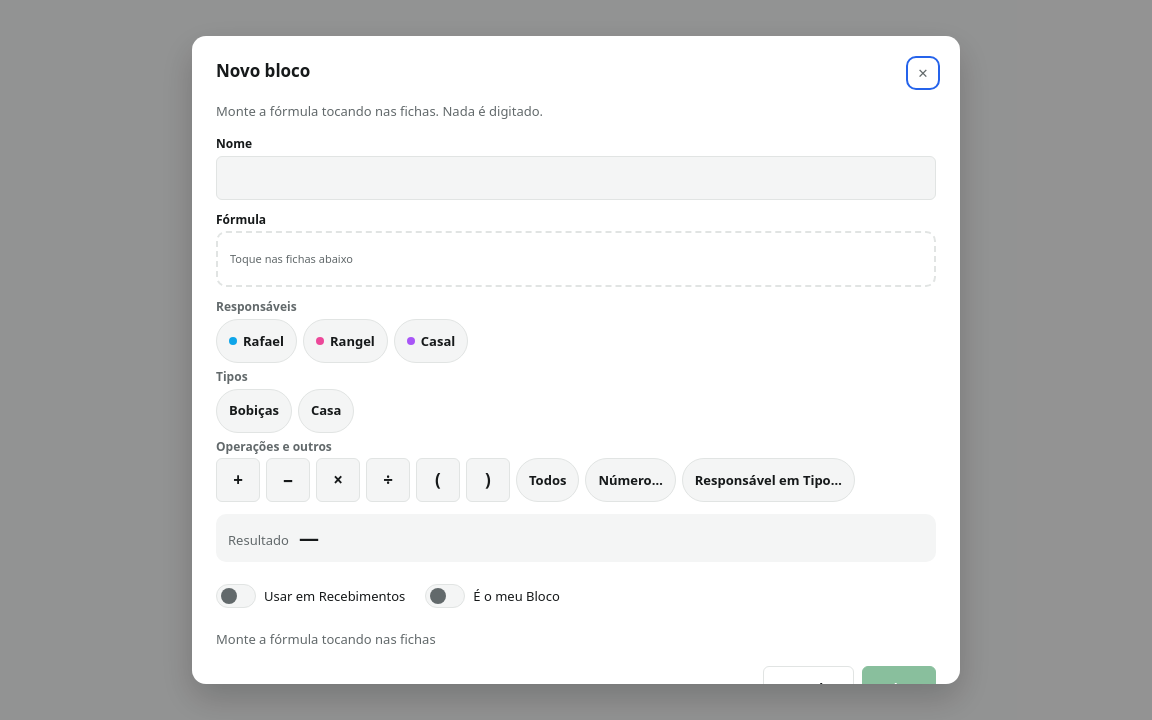
Montador de Bloco › Divisão por zero
Click the button "Casal" at [431, 341], box x1=394 y1=319 x2=468 y2=363
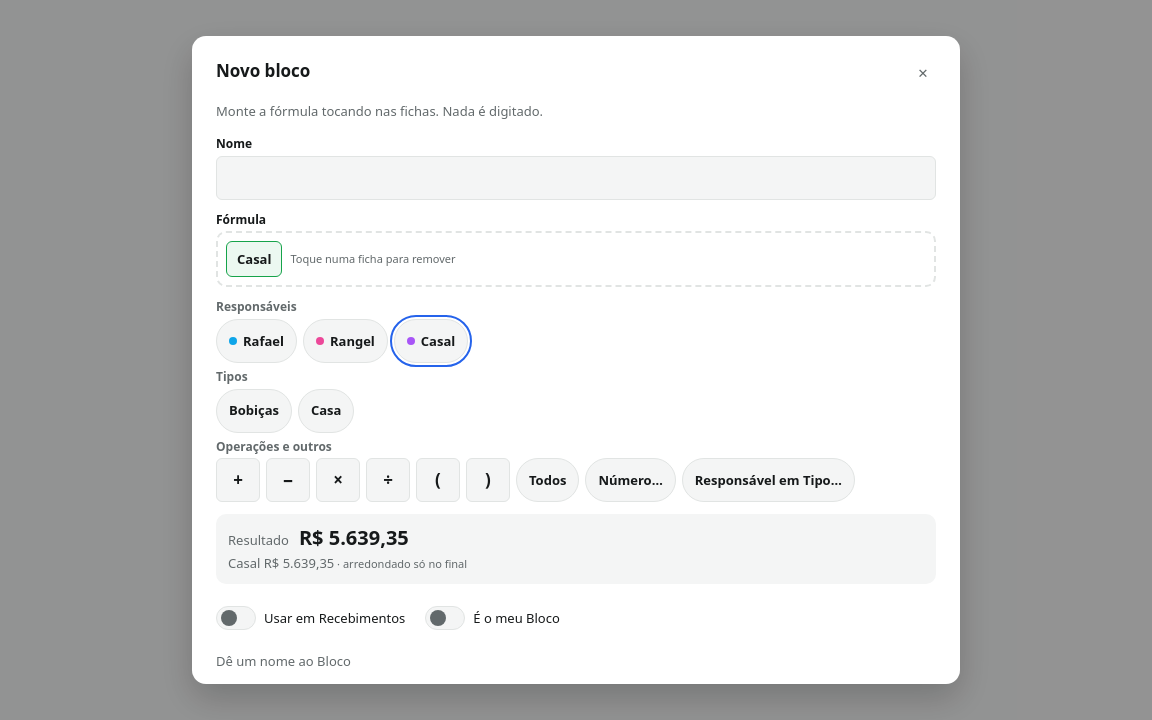
Click the button named "Dividir" at [388, 480], box x1=366 y1=458 x2=410 y2=502
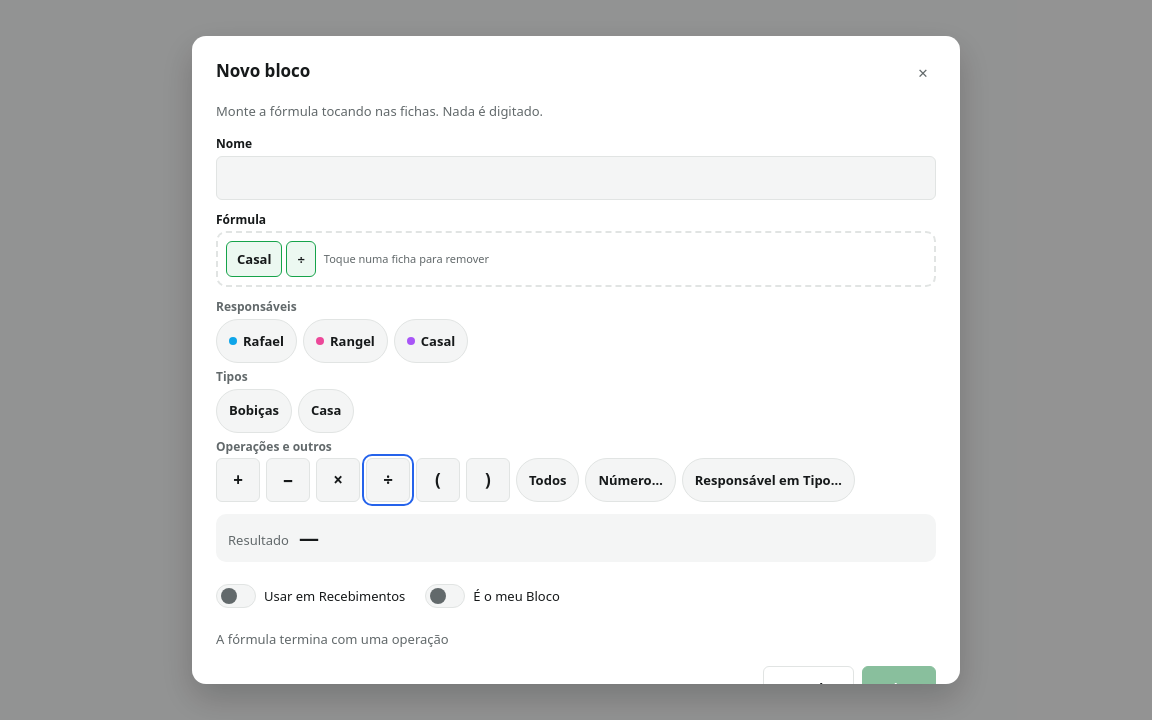
Click the button "Número…" at [631, 480], box x1=585 y1=458 x2=676 y2=502
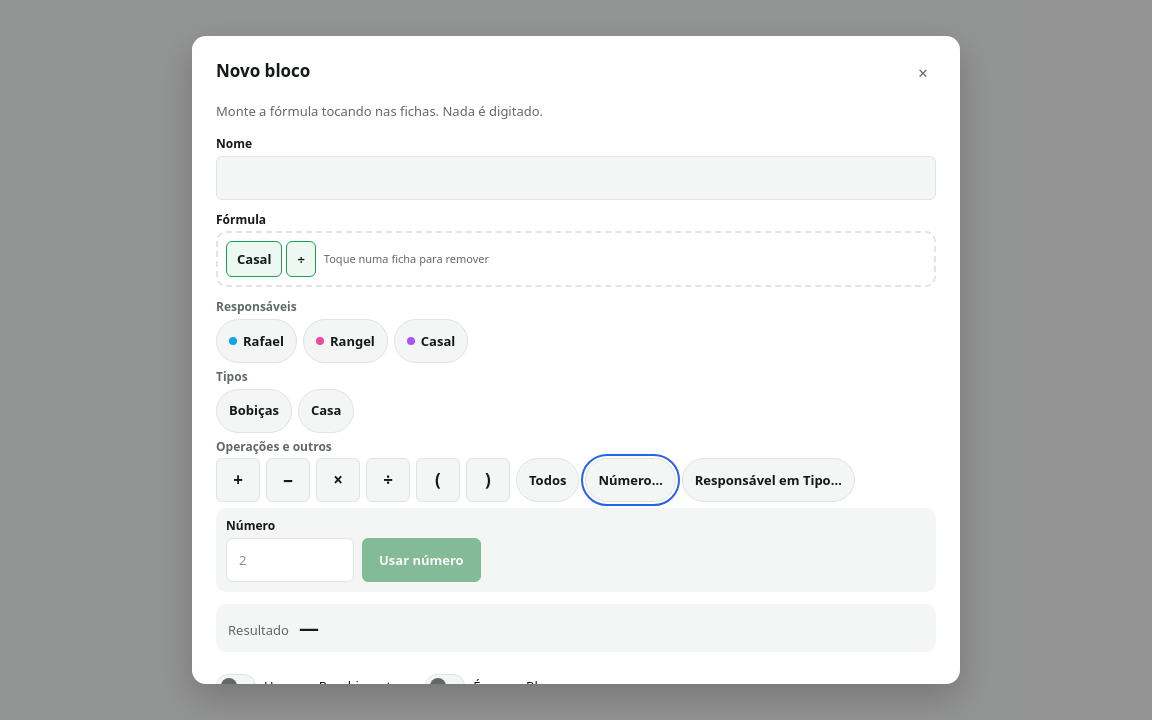
Type "0" into the field labelled "Número" at [290, 560], box x1=226 y1=538 x2=354 y2=582
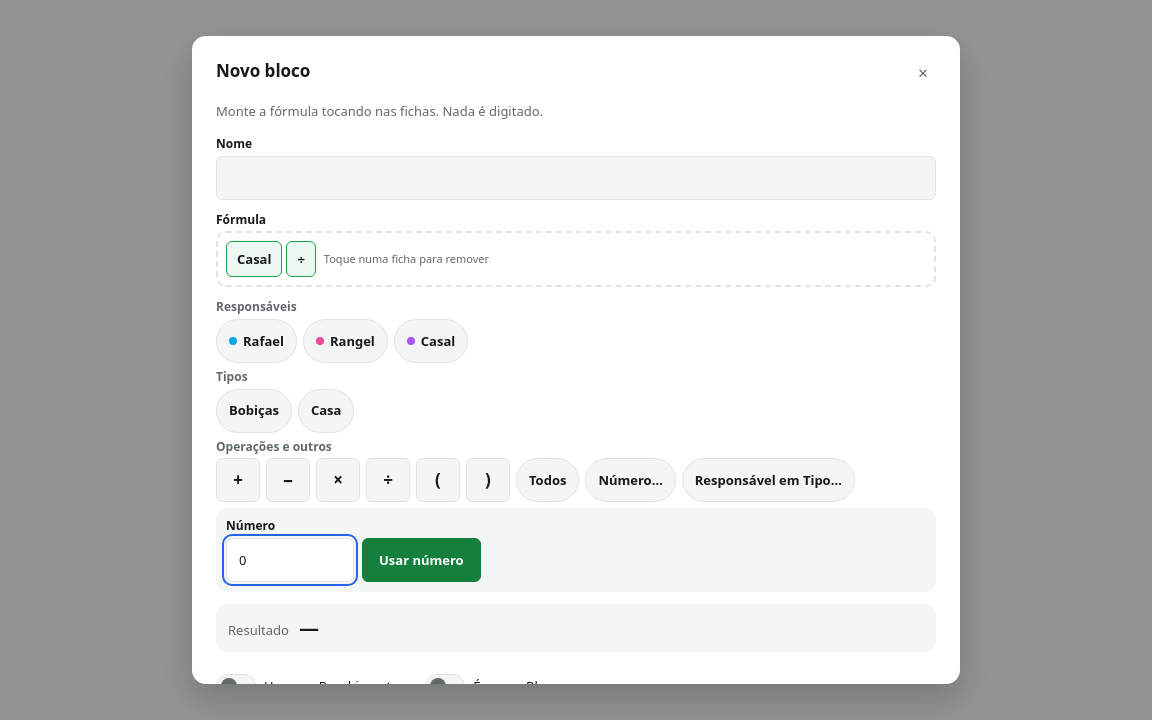
Click the button "Usar número" at [421, 560], box x1=362 y1=538 x2=481 y2=582
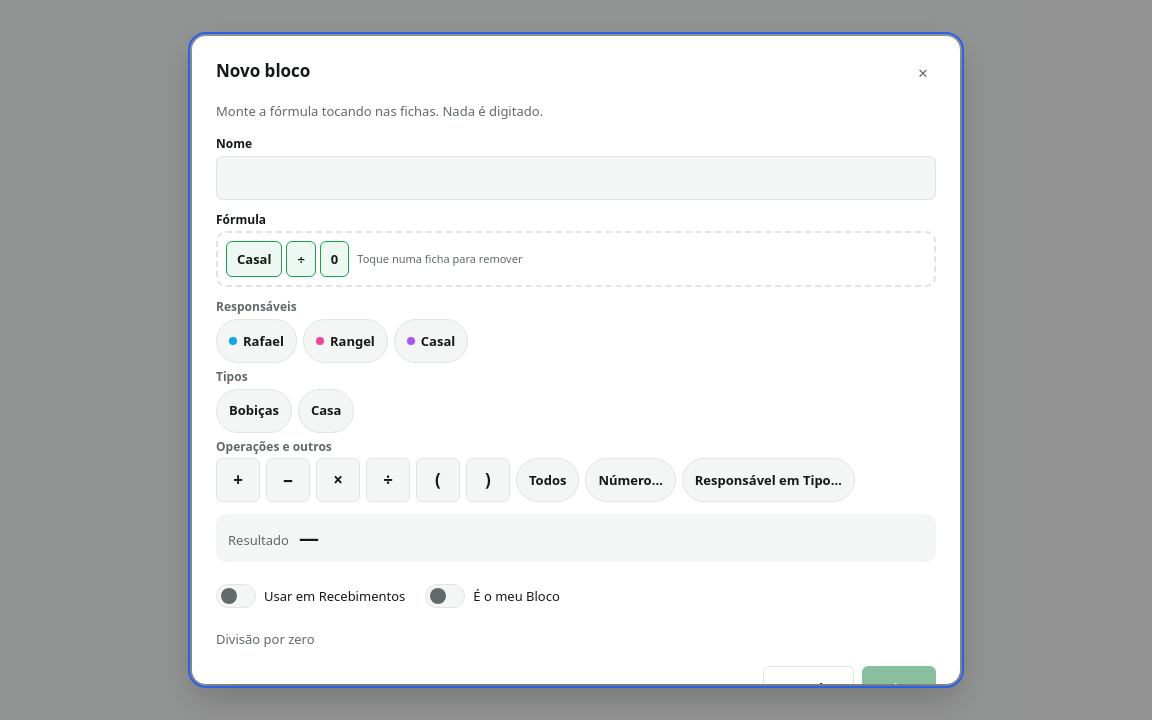
Now the message reads "Divisão por zero", box x1=216 y1=630 x2=315 y2=648
